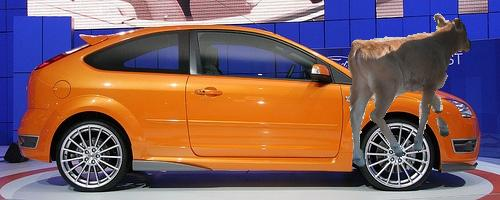tampered: (348, 14, 471, 167)
